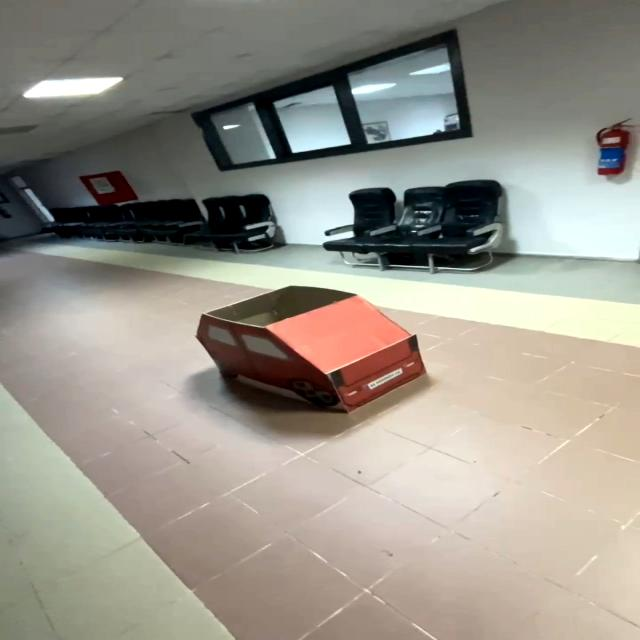red_car: (176, 259, 439, 442)
